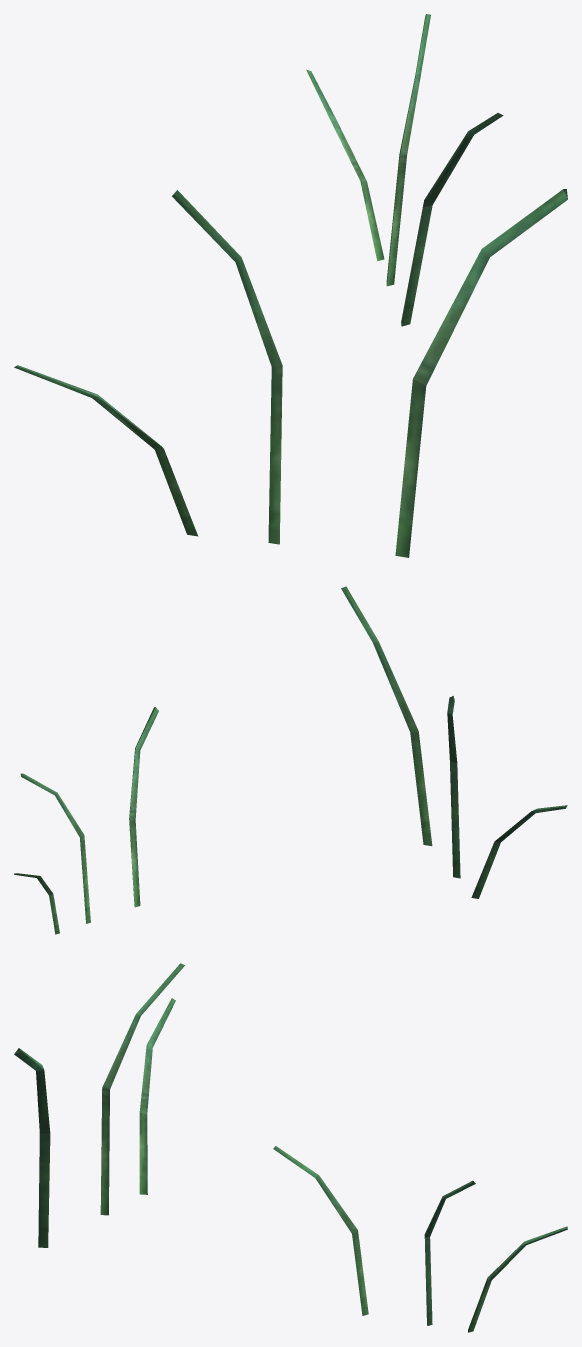
File: Area_04_6.fbx
3 renders of one model, top to bottom at view 1: azimuth 30°, elevation 25°; view 2: azimuth 150°, elevation 25°; view 3: azimuth 270°, elevation 25°, orthographic. The views are drawn at different scales.
Parts seen in each view (by area): view 1: Area_04_6; view 2: Area_04_6; view 3: Area_04_6.
Part boxes in pixels (x1=…): Area_04_6: x1=14, y1=14, x2=567, y2=557; Area_04_6: x1=14, y1=586, x2=567, y2=934; Area_04_6: x1=14, y1=963, x2=567, y2=1332.
Size of the model in its own units: 353 by 187 by 376.
